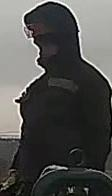gloves: (0, 163, 18, 196)
helmet: (23, 13, 59, 40)
vest: (8, 64, 111, 193)
